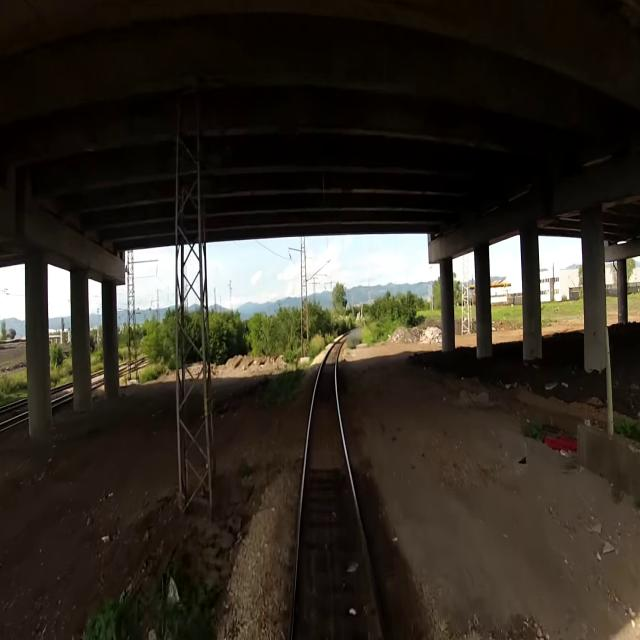rail-track: (294, 341, 379, 639)
